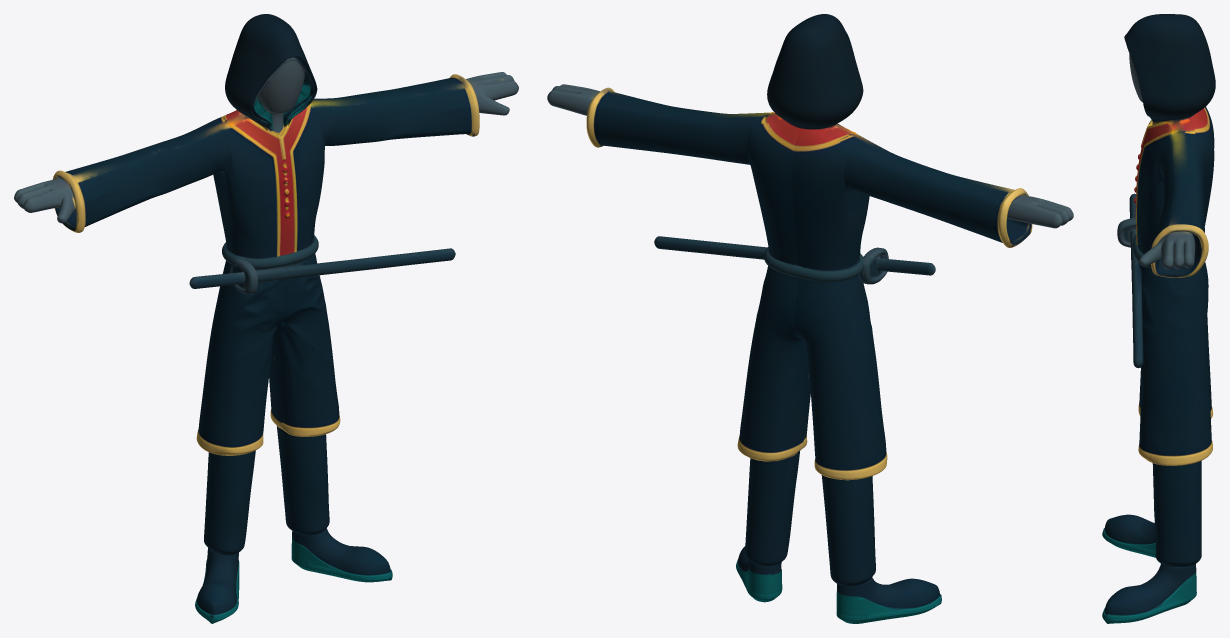
The model's file is jin-hero.glb.
3 renders of one model, left to right at view 1: azimuth 30°, elevation 25°; view 2: azimuth 150°, elevation 25°; view 3: azimuth 270°, elevation 25°, orthographic. The views are drawn at different scales.
Visible parts, largest first — view 1: node_0; view 2: node_0; view 3: node_0.
Boxes of the visible parts, x1,y1,x2,y2 form: node_0: [14, 14, 518, 623]; node_0: [547, 14, 1073, 623]; node_0: [1102, 14, 1215, 623].
Bounding box in the file's own units: 1.03 × 1.11 × 0.2023.
1 material, 1 textured.
